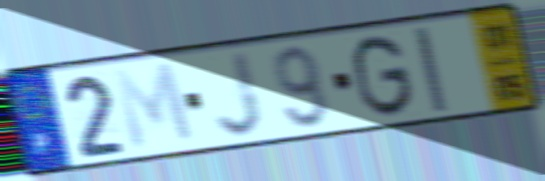2: (60, 68, 133, 165)
9: (271, 42, 332, 131)
G: (350, 31, 417, 120)
I: (409, 23, 451, 117)
J: (212, 48, 267, 140)
M: (109, 59, 199, 154)
